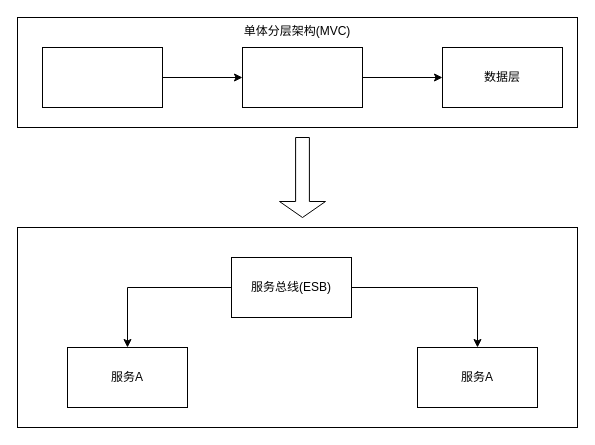
Image size: 595x445. Some labels were removed from this diagram. The shapes that lost their labels are listed below. From the top down, each one's box as (x1, y1, x2, y2) in pixels, then its label:
(42, 46, 162, 108): 表现层
(242, 46, 362, 108): 服务层
(16, 226, 578, 428): 面向服务架构(SOA)
